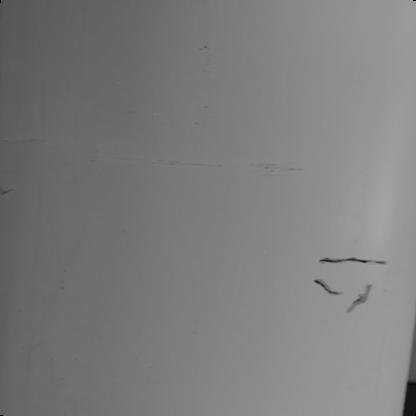fengxi: (316, 252, 386, 267), (345, 283, 374, 312), (313, 279, 342, 294)
